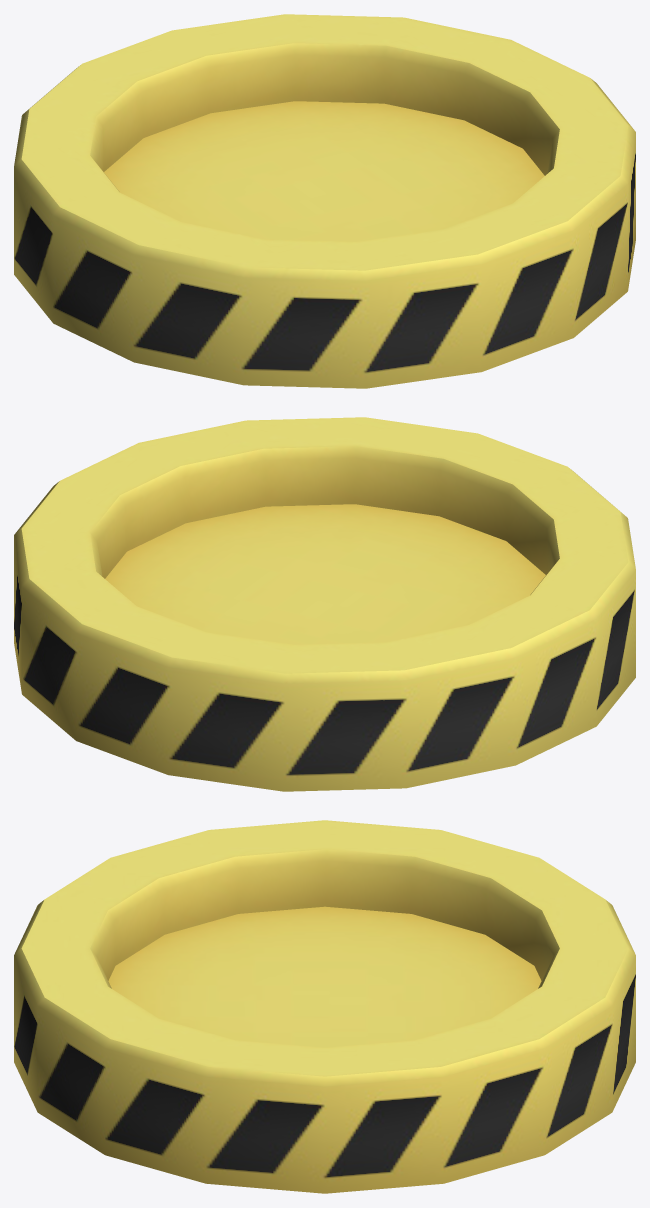
Rendered from Stand_1.FBX.
3 views of the same model, one above another, from view 1: azimuth 30°, elevation 25°; view 2: azimuth 150°, elevation 25°; view 3: azimuth 270°, elevation 25° (orthographic).
Parts seen in each view (by area): view 1: Stand_1; view 2: Stand_1; view 3: Stand_1.
Boxes of the visible parts, x1=… form: Stand_1: x1=14, y1=14, x2=635, y2=388; Stand_1: x1=14, y1=417, x2=635, y2=791; Stand_1: x1=14, y1=820, x2=635, y2=1193.
Size of the model in its own units: 1.77 by 0.3566 by 1.77.
